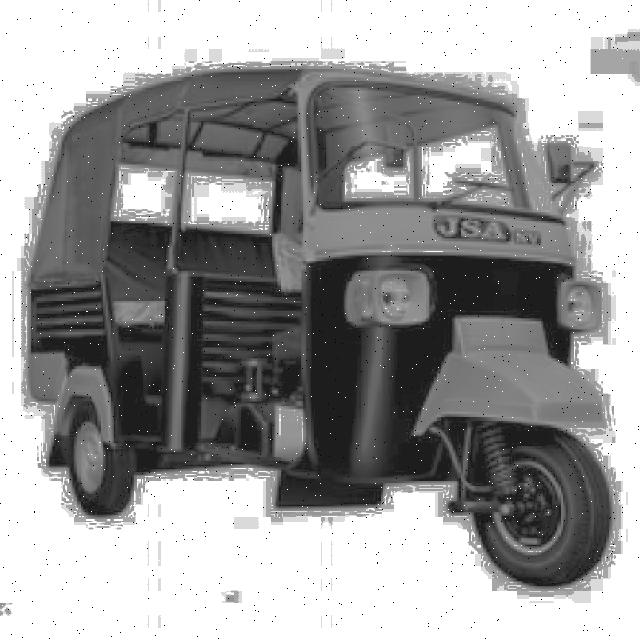Auto-Rickshaw: (19, 76, 626, 606)
